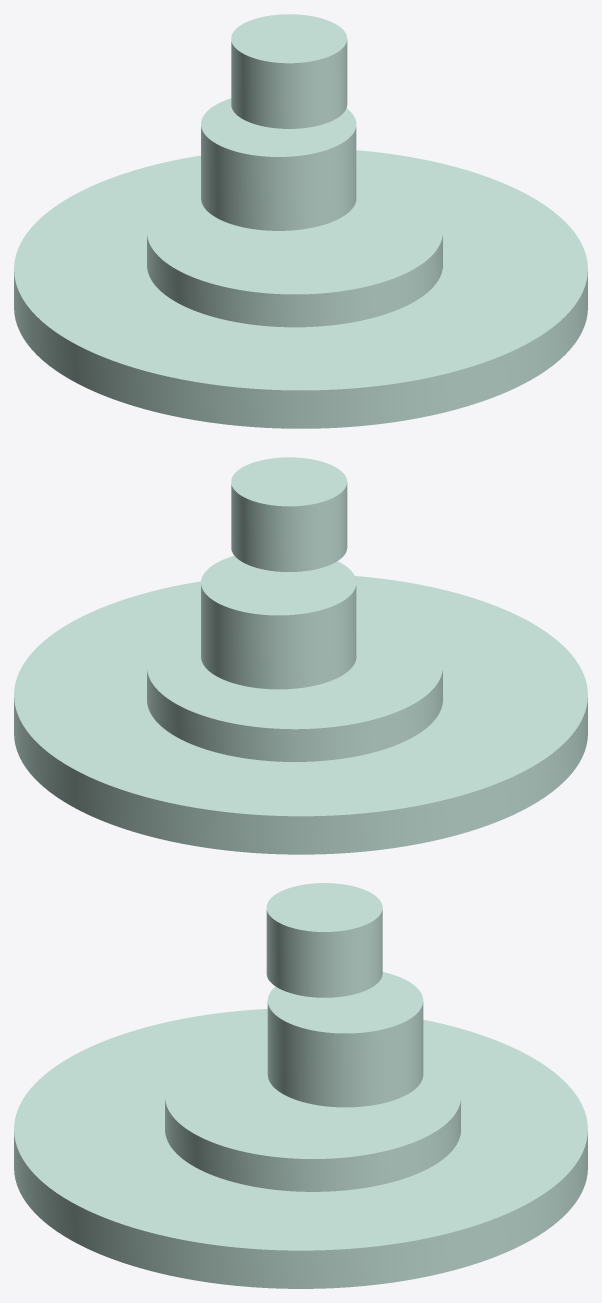
3 views of the same model, one above another, from view 1: azimuth 30°, elevation 25°; view 2: azimuth 150°, elevation 25°; view 3: azimuth 270°, elevation 25° (orthographic).
Parts seen in each view (by area): view 1: Renderer Node; view 2: Renderer Node; view 3: Renderer Node.
Part boxes in pixels (box(x1,y1,x2,y2)): Renderer Node: box(14, 14, 587, 428); Renderer Node: box(14, 457, 587, 854); Renderer Node: box(14, 883, 587, 1288).
Size of the model in its own units: 1.48 by 0.7422 by 1.48.
